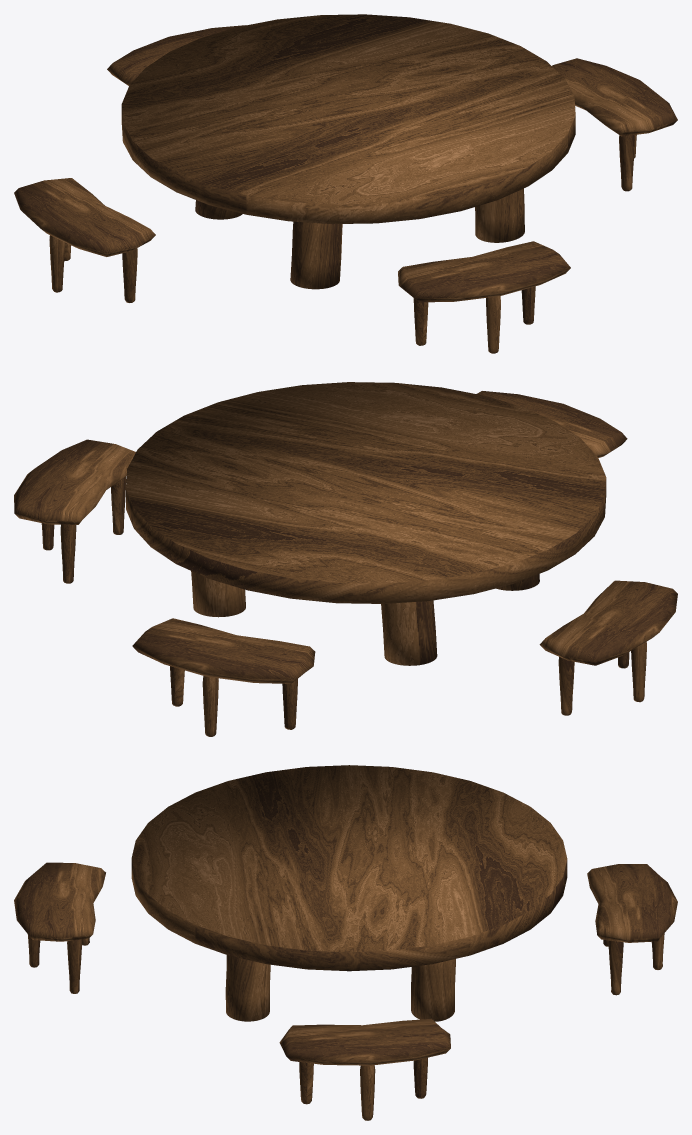
File: masa_stolcheta.fbx
3 views of the same model, one above another, from view 1: azimuth 30°, elevation 25°; view 2: azimuth 150°, elevation 25°; view 3: azimuth 270°, elevation 25° (orthographic). The views are drawn at different scales.
Parts seen in each view (by area): view 1: Cylinder.003, Cylinder.008, Cylinder.009, Cylinder.004, Cylinder.006; view 2: Cylinder.003, Cylinder.006, Cylinder.009, Cylinder.004, Cylinder.008; view 3: Cylinder.003, Cylinder.004, Cylinder.008, Cylinder.006.
Boxes of the visible parts, left/top/right/bottom form: Cylinder.003: left=121, top=14, right=575, bottom=289; Cylinder.008: left=398, top=241, right=570, bottom=353; Cylinder.009: left=14, top=178, right=155, bottom=302; Cylinder.004: left=552, top=58, right=677, bottom=191; Cylinder.006: left=107, top=25, right=245, bottom=85; Cylinder.003: left=126, top=382, right=606, bottom=665; Cylinder.006: left=132, top=618, right=315, bottom=736; Cylinder.009: left=539, top=580, right=677, bottom=715; Cylinder.004: left=14, top=439, right=135, bottom=583; Cylinder.008: left=477, top=391, right=627, bottom=457; Cylinder.003: left=131, top=765, right=567, bottom=1021; Cylinder.004: left=279, top=1018, right=450, bottom=1120; Cylinder.008: left=14, top=862, right=105, bottom=993; Cylinder.006: left=587, top=864, right=677, bottom=995.
Size of the model in its own units: 228 by 46 by 225.
